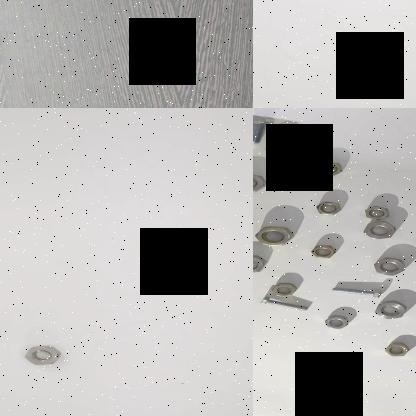Bolts: (330, 284, 388, 300), (258, 294, 308, 312), (253, 114, 276, 146)
NUTS: (20, 344, 66, 368), (369, 256, 415, 278), (253, 225, 295, 248), (264, 136, 304, 160), (371, 300, 411, 320), (360, 220, 396, 242), (382, 341, 412, 360), (313, 200, 342, 218), (320, 315, 350, 332), (308, 244, 336, 262), (362, 205, 390, 221), (316, 161, 341, 177), (253, 168, 268, 194), (270, 284, 296, 298), (253, 255, 265, 275)
